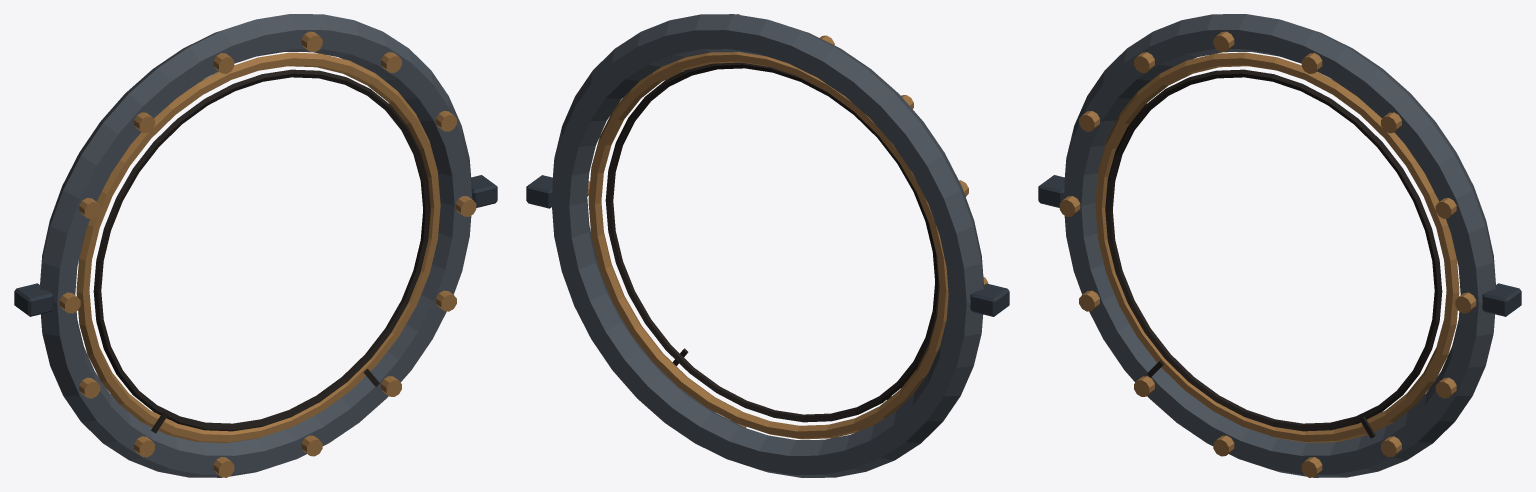
The model's file is runtime.glb.
3 views of the same model, side by side, from view 1: azimuth 30°, elevation 25°; view 2: azimuth 150°, elevation 25°; view 3: azimuth 330°, elevation 25° (orthographic).
Parts seen in each view (by area): view 1: kinetic-tide-bearing-flange-v08_plate_nocol, kinetic-tide-bearing-flange-v08_bronze_nocol, kinetic-tide-bearing-flange-v08_weardark_nocol, kinetic-tide-bearing-flange-v08_steel_nocol; view 2: kinetic-tide-bearing-flange-v08_plate_nocol, kinetic-tide-bearing-flange-v08_bronze_nocol, kinetic-tide-bearing-flange-v08_weardark_nocol, kinetic-tide-bearing-flange-v08_steel_nocol; view 3: kinetic-tide-bearing-flange-v08_plate_nocol, kinetic-tide-bearing-flange-v08_bronze_nocol, kinetic-tide-bearing-flange-v08_weardark_nocol, kinetic-tide-bearing-flange-v08_steel_nocol.
Part boxes in pixels (x1=…): kinetic-tide-bearing-flange-v08_plate_nocol: x1=40, y1=14, x2=472, y2=477; kinetic-tide-bearing-flange-v08_bronze_nocol: x1=59, y1=31, x2=476, y2=477; kinetic-tide-bearing-flange-v08_weardark_nocol: x1=93, y1=69, x2=430, y2=433; kinetic-tide-bearing-flange-v08_steel_nocol: x1=14, y1=175, x2=497, y2=316; kinetic-tide-bearing-flange-v08_plate_nocol: x1=551, y1=14, x2=983, y2=477; kinetic-tide-bearing-flange-v08_bronze_nocol: x1=587, y1=14, x2=988, y2=439; kinetic-tide-bearing-flange-v08_weardark_nocol: x1=605, y1=62, x2=939, y2=422; kinetic-tide-bearing-flange-v08_steel_nocol: x1=526, y1=175, x2=1009, y2=316; kinetic-tide-bearing-flange-v08_plate_nocol: x1=1063, y1=14, x2=1495, y2=477; kinetic-tide-bearing-flange-v08_bronze_nocol: x1=1059, y1=31, x2=1476, y2=477; kinetic-tide-bearing-flange-v08_weardark_nocol: x1=1105, y1=69, x2=1442, y2=438; kinetic-tide-bearing-flange-v08_steel_nocol: x1=1038, y1=175, x2=1521, y2=316.
Size of the model in its own units: 6.36 by 5.86 by 0.555.
